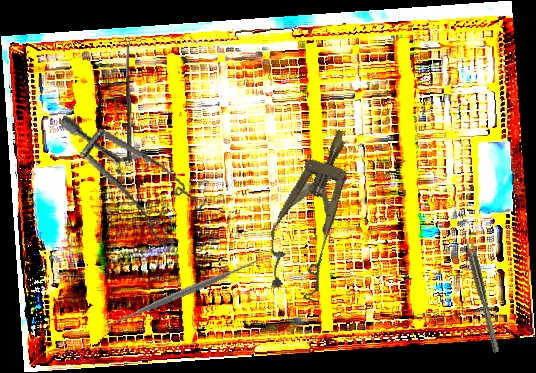Spatula Surgical: (102, 250, 267, 334)
Speculum: (38, 114, 218, 258), (253, 119, 373, 304)
Surgical Spoon: (125, 36, 133, 163)
Tissue Forceps: (461, 228, 500, 354)
